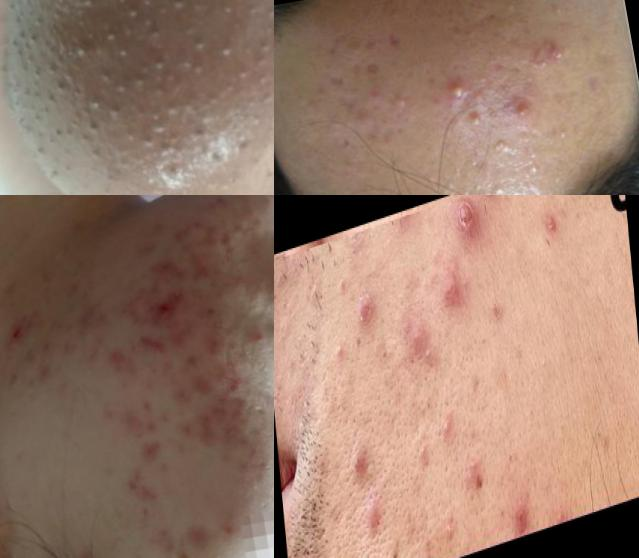acne_scars: (117, 467, 159, 508), (139, 256, 184, 284), (353, 48, 382, 90), (381, 21, 409, 58), (321, 63, 352, 93), (126, 328, 162, 352), (134, 439, 165, 460)
blackhead: (127, 95, 219, 192), (126, 35, 226, 124), (16, 68, 96, 155), (194, 41, 272, 123), (73, 65, 150, 135), (56, 7, 134, 76), (208, 117, 275, 191), (78, 131, 151, 196), (226, 1, 275, 82), (121, 1, 195, 53), (3, 29, 65, 83), (5, 1, 63, 40), (49, 1, 111, 29), (372, 452, 395, 502), (384, 540, 405, 558)
papular: (185, 389, 265, 456), (347, 264, 381, 337), (338, 429, 374, 495), (449, 196, 487, 245), (144, 291, 185, 335), (433, 267, 462, 320), (103, 344, 140, 384), (510, 491, 534, 541), (169, 222, 209, 249), (205, 220, 238, 251), (201, 333, 231, 361), (227, 273, 252, 294), (250, 330, 272, 350), (184, 354, 204, 373)
purulent: (436, 69, 481, 105), (503, 99, 548, 126)
sebo-crystan-conglo: (536, 24, 562, 68)
whitehead: (433, 392, 461, 449), (544, 118, 583, 155), (412, 409, 435, 468), (328, 318, 354, 368), (511, 153, 547, 184), (492, 1, 528, 32), (462, 96, 490, 132), (416, 336, 439, 373), (258, 353, 275, 394), (393, 84, 414, 111), (490, 135, 514, 157), (545, 1, 569, 22), (488, 176, 509, 196), (245, 466, 264, 488), (264, 470, 275, 503)
